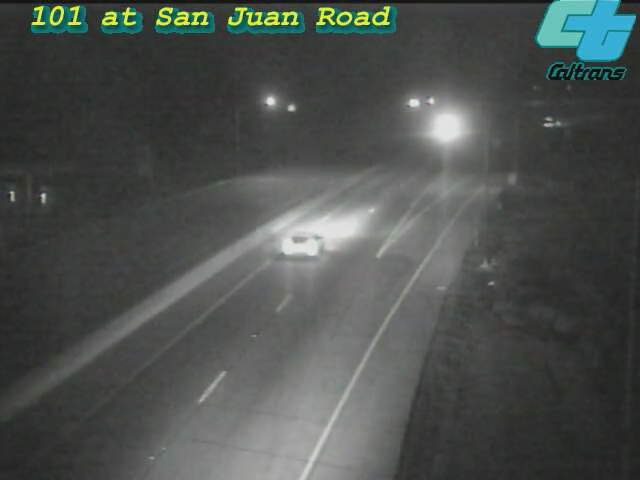vehicle: (258, 205, 338, 285), (418, 104, 468, 154), (531, 96, 581, 146)
